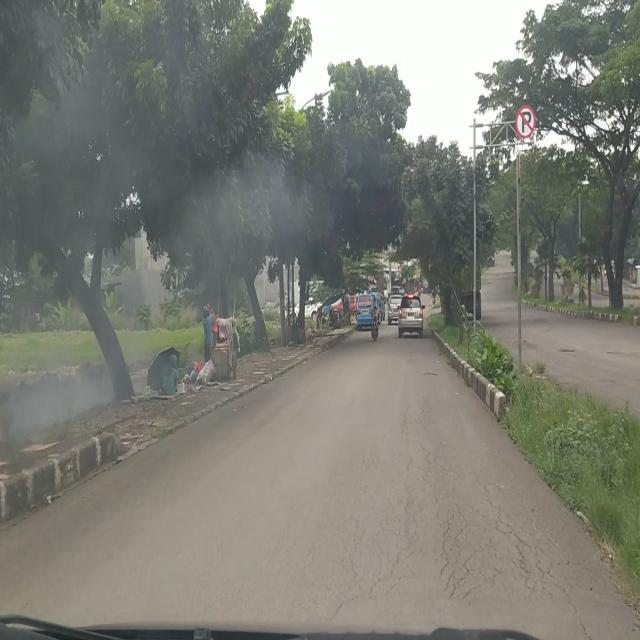Drain Hole: (332, 438, 561, 610)
